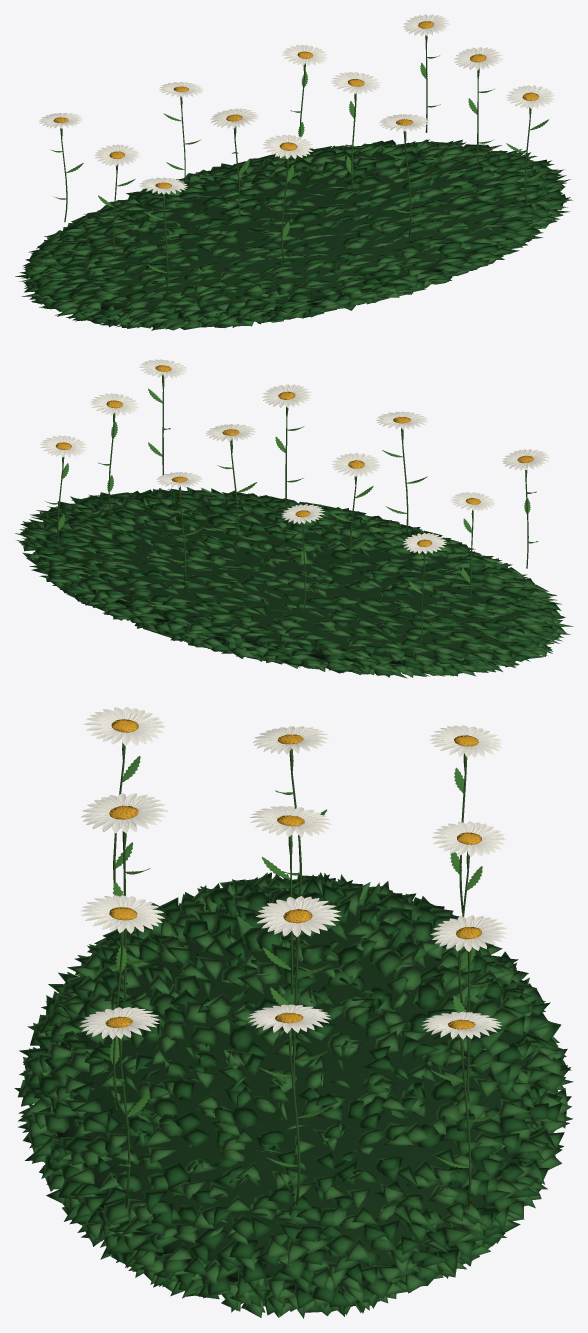
The model's file is Daisy_Bed_Rect.fbx.
The picture shows the model from 3 angles, top to bottom: view 1: azimuth 30°, elevation 25°; view 2: azimuth 150°, elevation 25°; view 3: azimuth 270°, elevation 25°; orthographic projection. The views are drawn at different scales.
Visible parts, largest first — view 1: Daisy_Bed_Rect; view 2: Daisy_Bed_Rect; view 3: Daisy_Bed_Rect.
Part boxes in pixels (left/top/right/bottom): Daisy_Bed_Rect: left=15, top=14, right=572, bottom=330; Daisy_Bed_Rect: left=15, top=359, right=573, bottom=678; Daisy_Bed_Rect: left=14, top=707, right=573, bottom=1318.
Bounding box in the file's own units: 1.2 × 0.38 × 0.65.
Materials: 8 (8 with a texture image).
